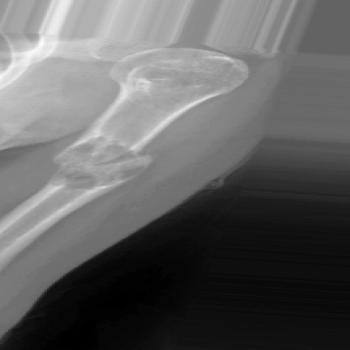Fracture: (36, 130, 160, 195)
